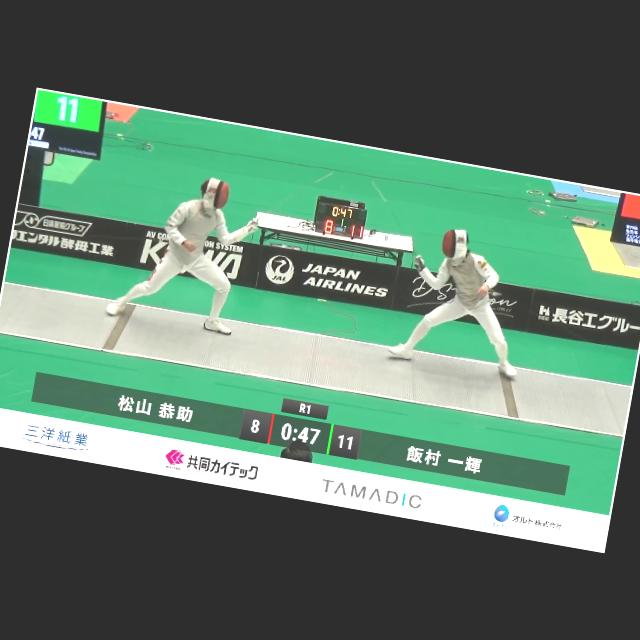blade: (357, 179, 445, 266), (248, 156, 335, 242)
